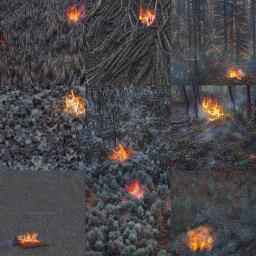Small fire: (181, 223, 220, 254), (63, 88, 87, 126), (118, 177, 151, 204), (201, 95, 227, 128), (109, 140, 137, 164), (15, 229, 42, 250), (138, 3, 155, 29), (67, 5, 88, 26), (229, 65, 248, 82)
